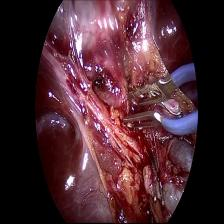Bipolar: (121, 62, 198, 139)
